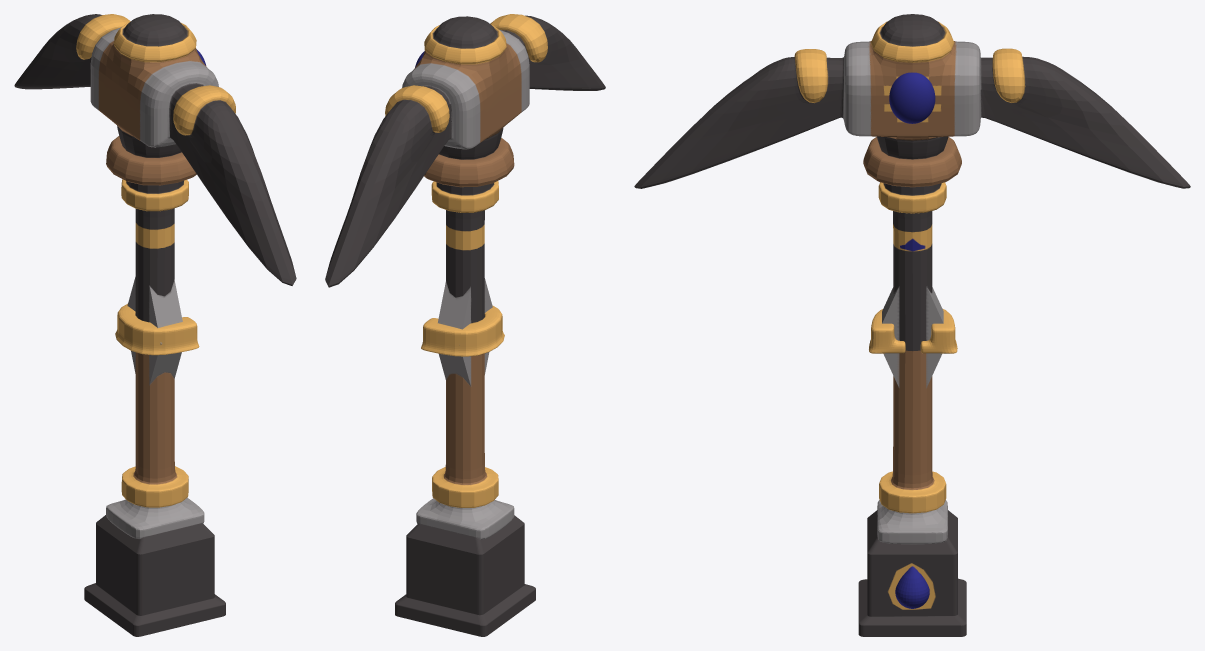
The picture shows the model from 3 angles, left to right: view 1: azimuth 30°, elevation 25°; view 2: azimuth 150°, elevation 25°; view 3: azimuth 270°, elevation 25°; orthographic projection.
Parts seen in each view (by area): view 1: Cube.001; view 2: Cube.001; view 3: Cube.001.
Boxes of the visible parts, left/top/right/bottom form: Cube.001: left=14, top=14, right=296, bottom=636; Cube.001: left=325, top=14, right=605, bottom=636; Cube.001: left=634, top=14, right=1190, bottom=636.
Bounding box in the file's own units: 0.4025 × 2.29 × 1.95.
